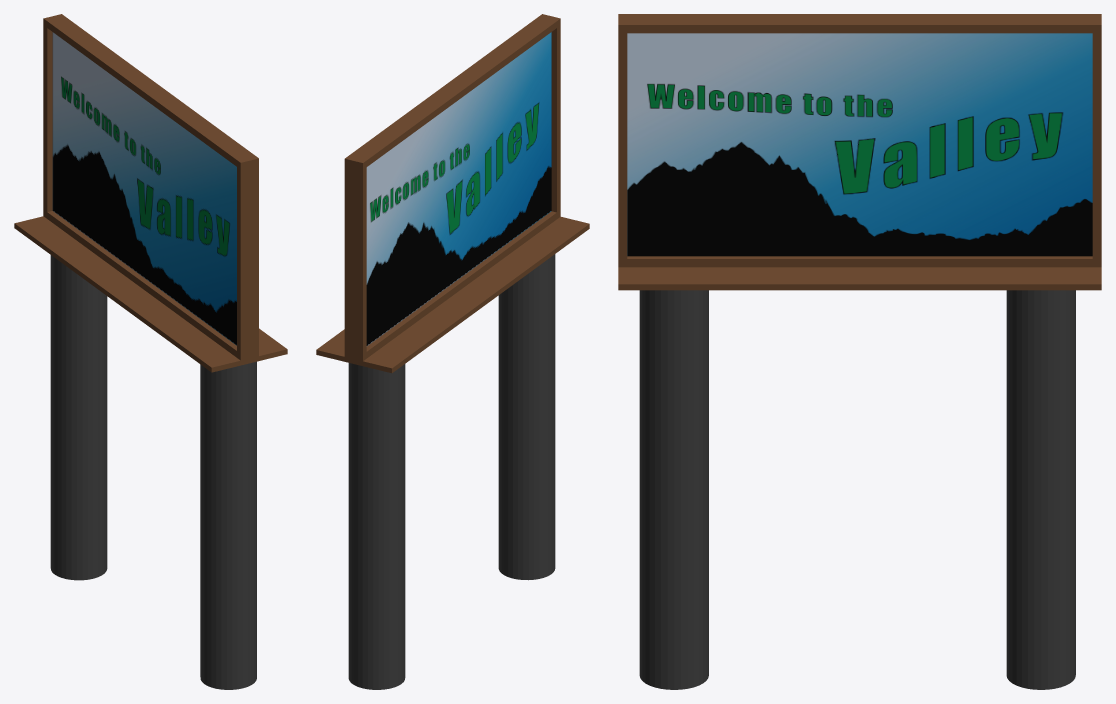
Rendered from Billboard.fbx.
3 renders of one model, left to right at view 1: azimuth 30°, elevation 25°; view 2: azimuth 150°, elevation 25°; view 3: azimuth 270°, elevation 25°, orthographic. The views are drawn at different scales.
Parts seen in each view (by area): view 1: Plane; view 2: Plane; view 3: Plane.
Boxes of the visible parts, x1,y1,x2,y2 form: Plane: (14,14,287,689); Plane: (316,14,589,689); Plane: (618,14,1101,689).
Size of the model in its own units: 162 by 1090 by 729.
